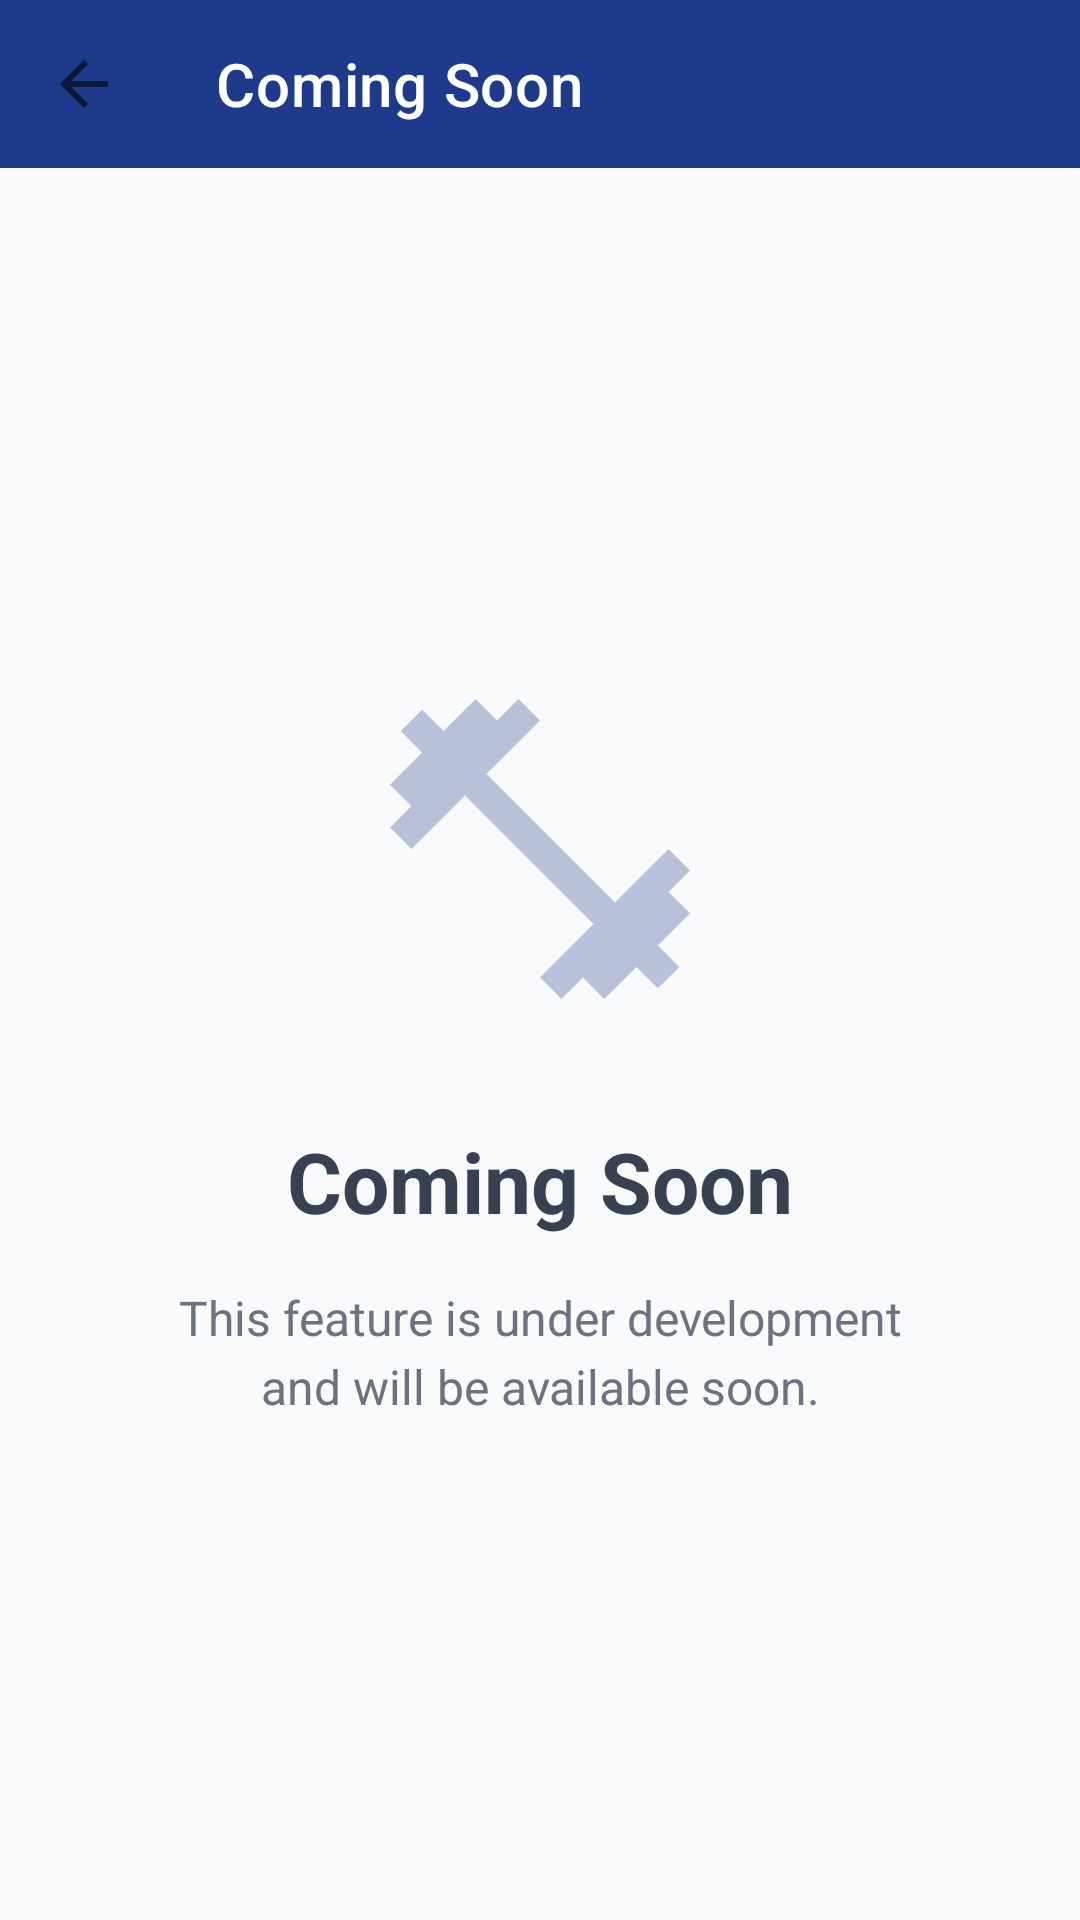

Named icons in this screenshot (1080 × 1920) and their bounding boxes, [x1,y1,x2,y2]:
workout: [390,699,690,999]
